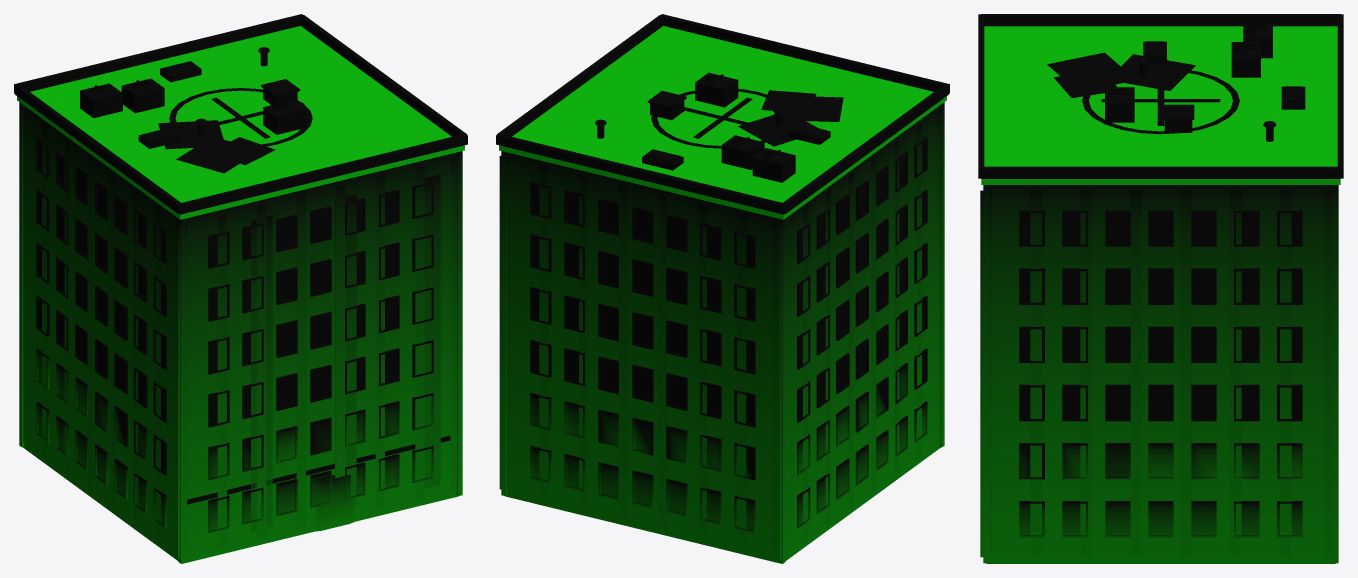
Rendered from city6storyc.glb.
The picture shows the model from 3 angles, left to right: view 1: azimuth 30°, elevation 25°; view 2: azimuth 150°, elevation 25°; view 3: azimuth 270°, elevation 25°; orthographic projection. The views are drawn at different scales.
Visible parts, largest first — view 1: lod0; view 2: lod0; view 3: lod0.
Part boxes in pixels (x1,y1,x2,y2): lod0: (14, 14, 467, 563); lod0: (496, 14, 949, 563); lod0: (978, 14, 1343, 563).
Size of what is drawn, in the model's own units: 18.6 by 22.94 by 18.5.
